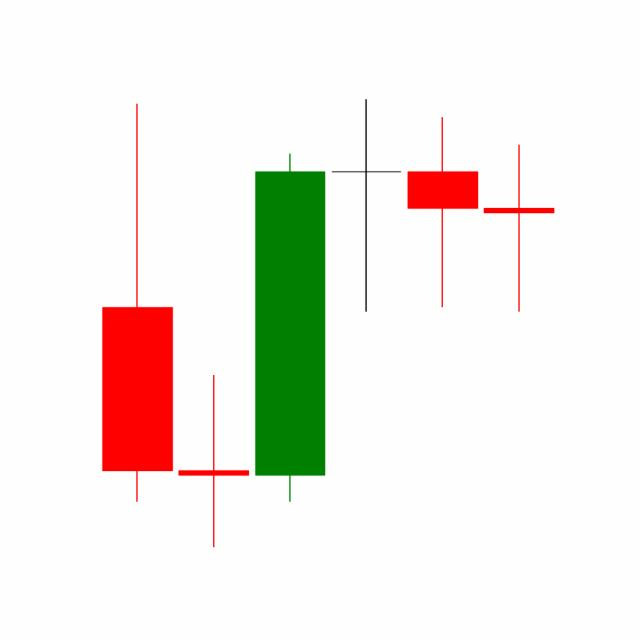Spinning Top: (403, 114, 481, 309)
